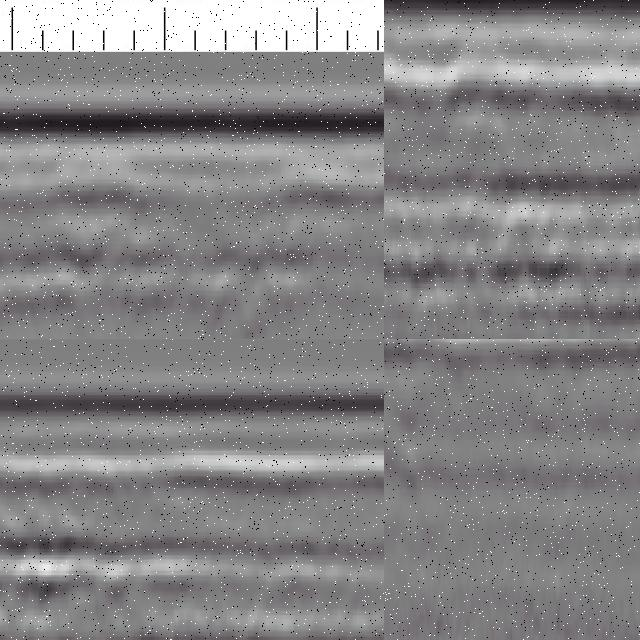loose: (1, 184, 317, 315), (1, 532, 154, 618), (385, 340, 476, 482)
